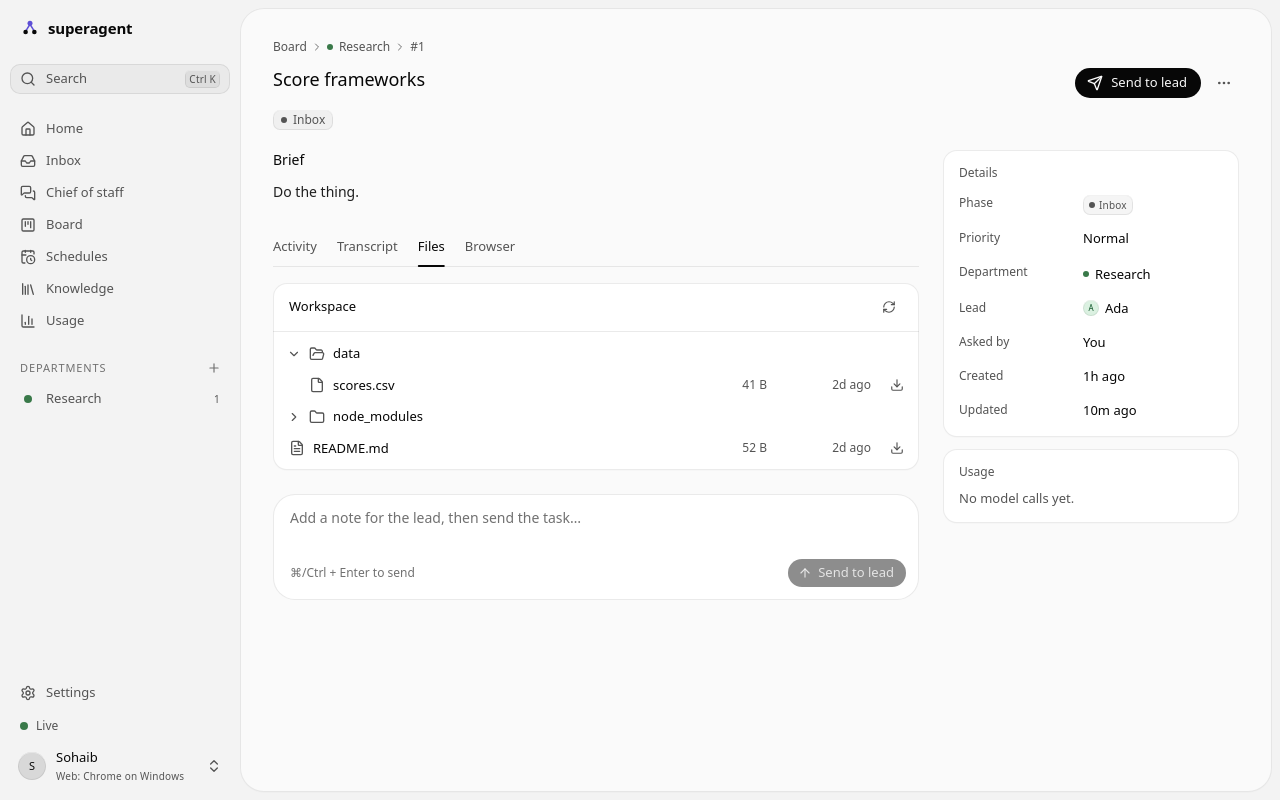
Test case: a task’s files › lists them a folder at a time, and shows text and markdown files
The image size is (1280, 800).
expect the button "scores.csv 41 B 2d ago" is shown: met, box [281,370,879,401]
Note: Opening one lists it then.
Step 1. Click the button "node_modules" → [378, 416], box [281,401,911,433]
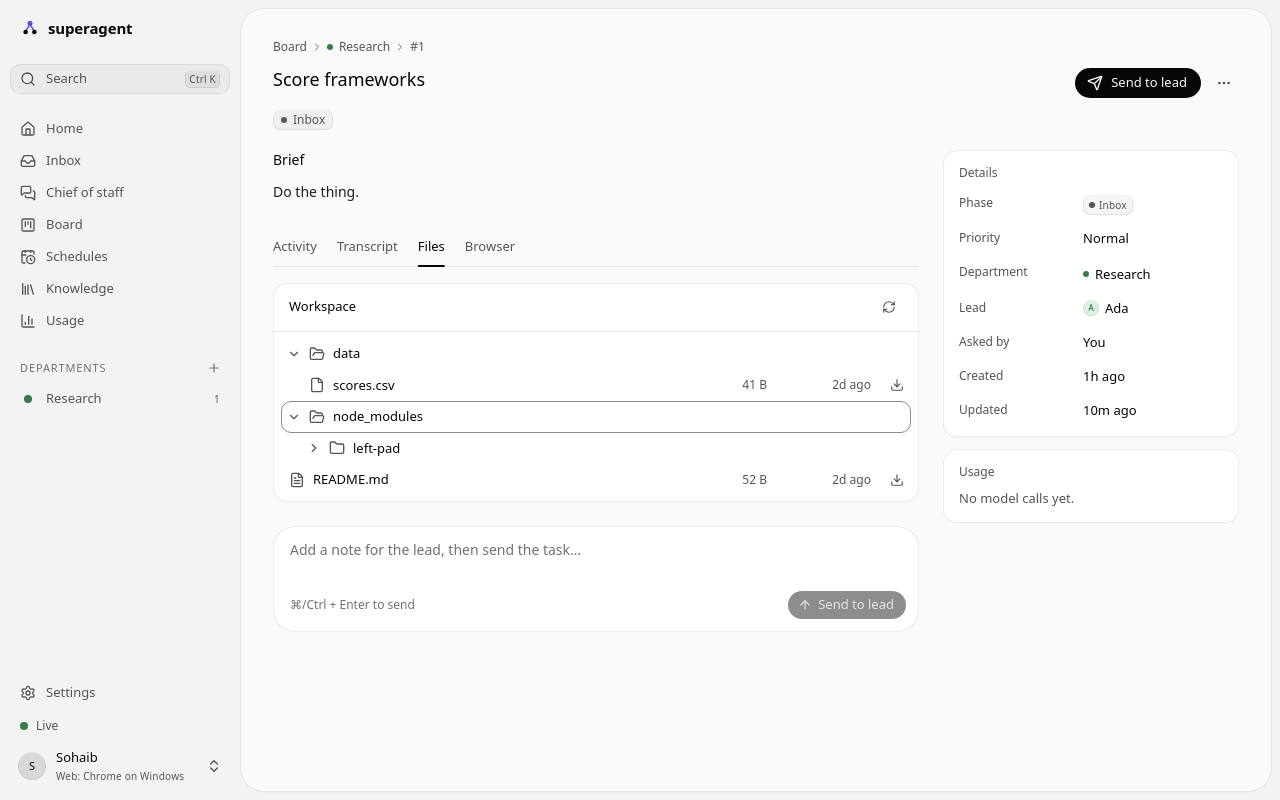
expect the button "left-pad" is shown: met, box [281,433,911,464]
Step 2. Click the button "README.md 52 B 2d ago" → [351, 479], box [281,464,879,496]
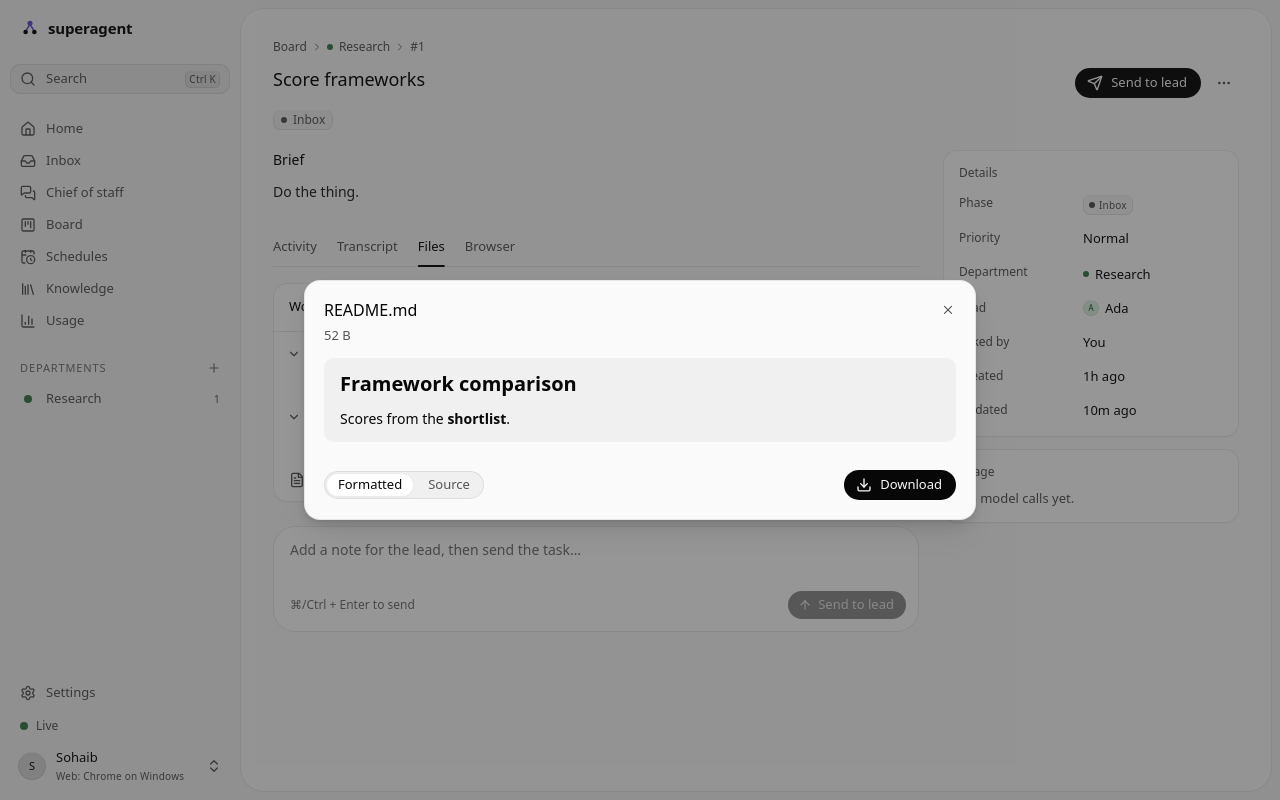
expect the heading "Framework comparison" is shown: met, box [340,370,577,396]
Step 3. Click the button "Source" → [449, 485], box [416,473,482,497]
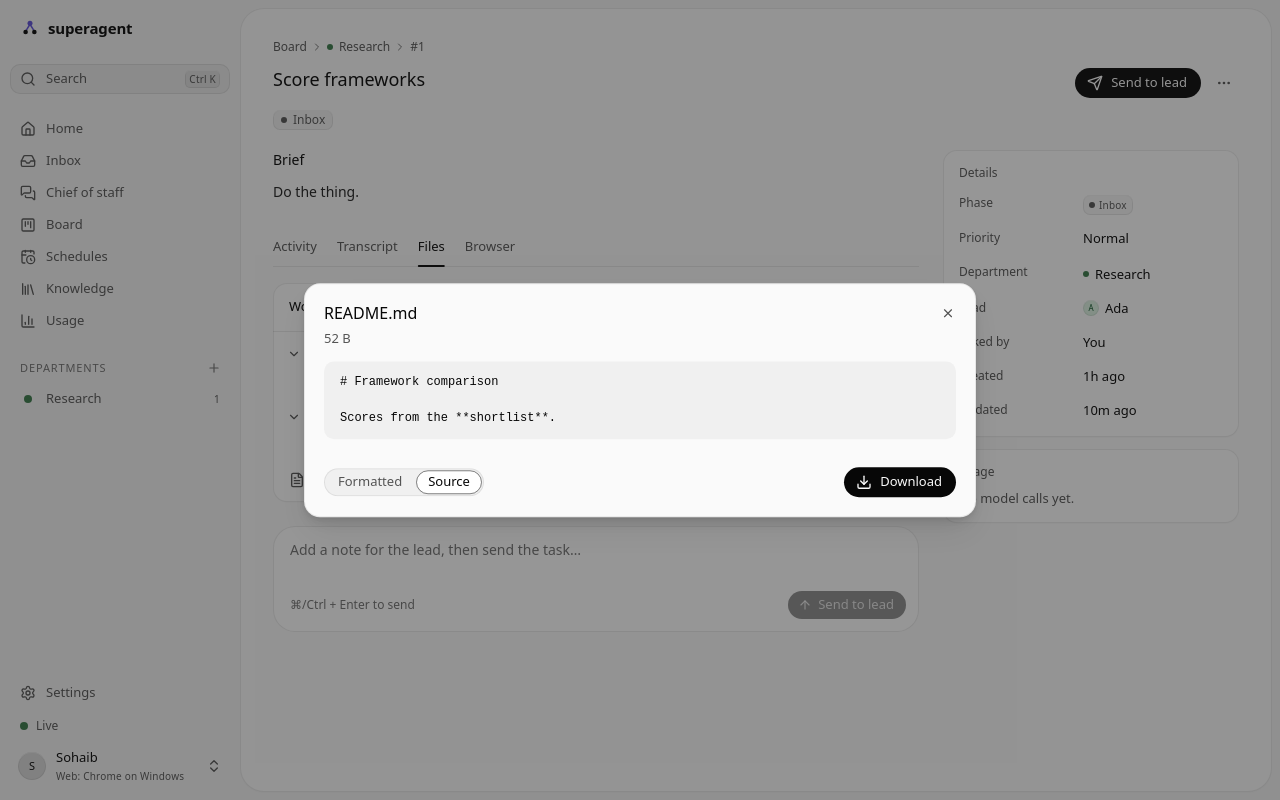
expect the text "# Framework comparison Scores from the **shortlist**." is shown: met, box [324,361,956,439]
Step 4. Click the button named "Close" → [948, 313], box [934,299,962,327]
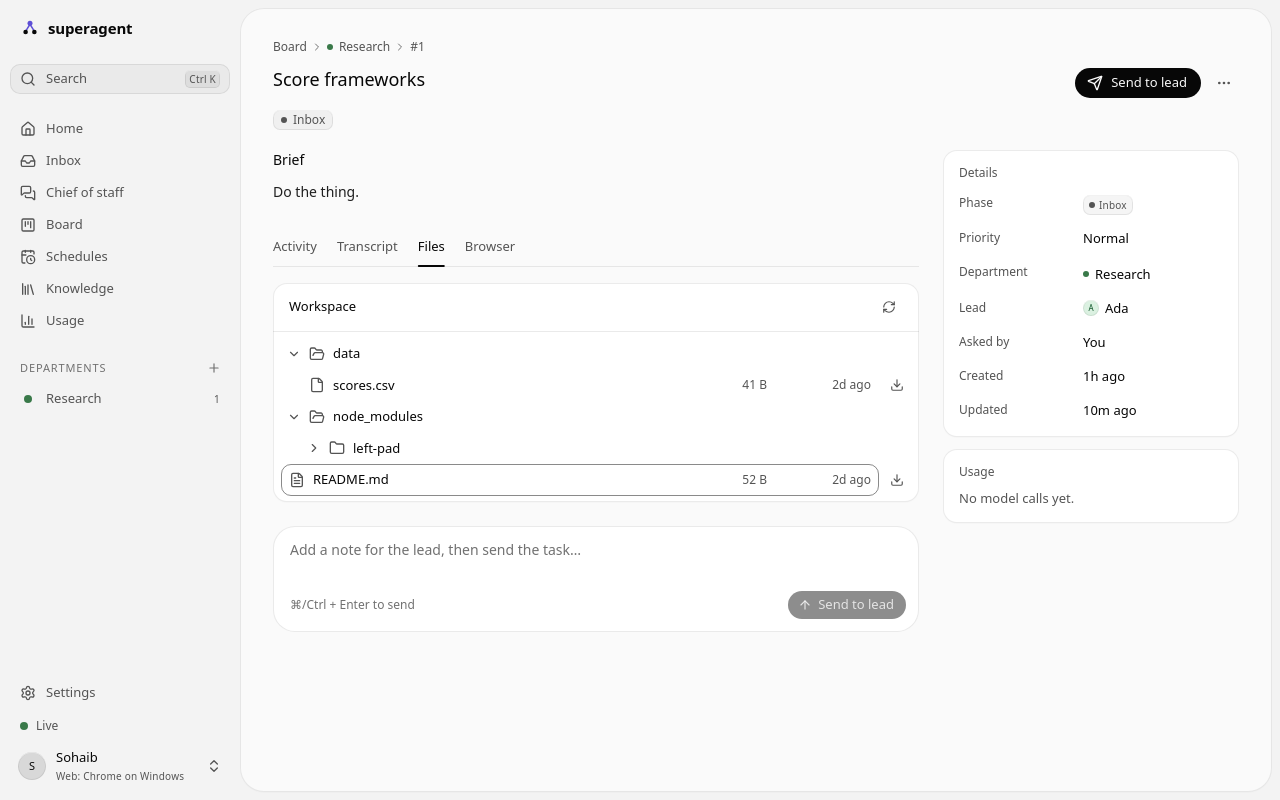
expect the dialog is gone: met
Step 5. Click the button "scores.csv 41 B 2d ago" → [364, 385], box [281,370,879,401]
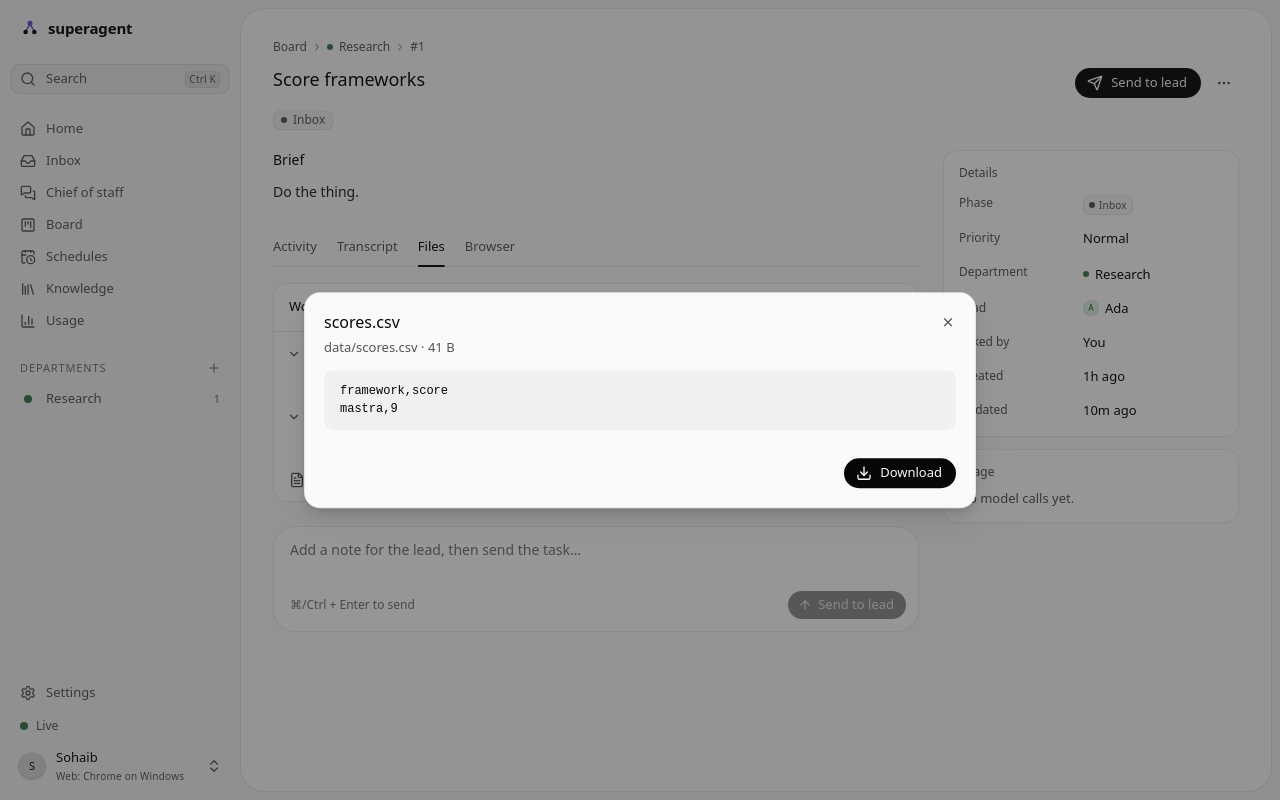
expect the dialog "scores.csv" shows "data/scores.csv": met, box [324,338,455,356]
expect the text "framework,score mastra,9" is shown: met, box [324,370,956,430]
